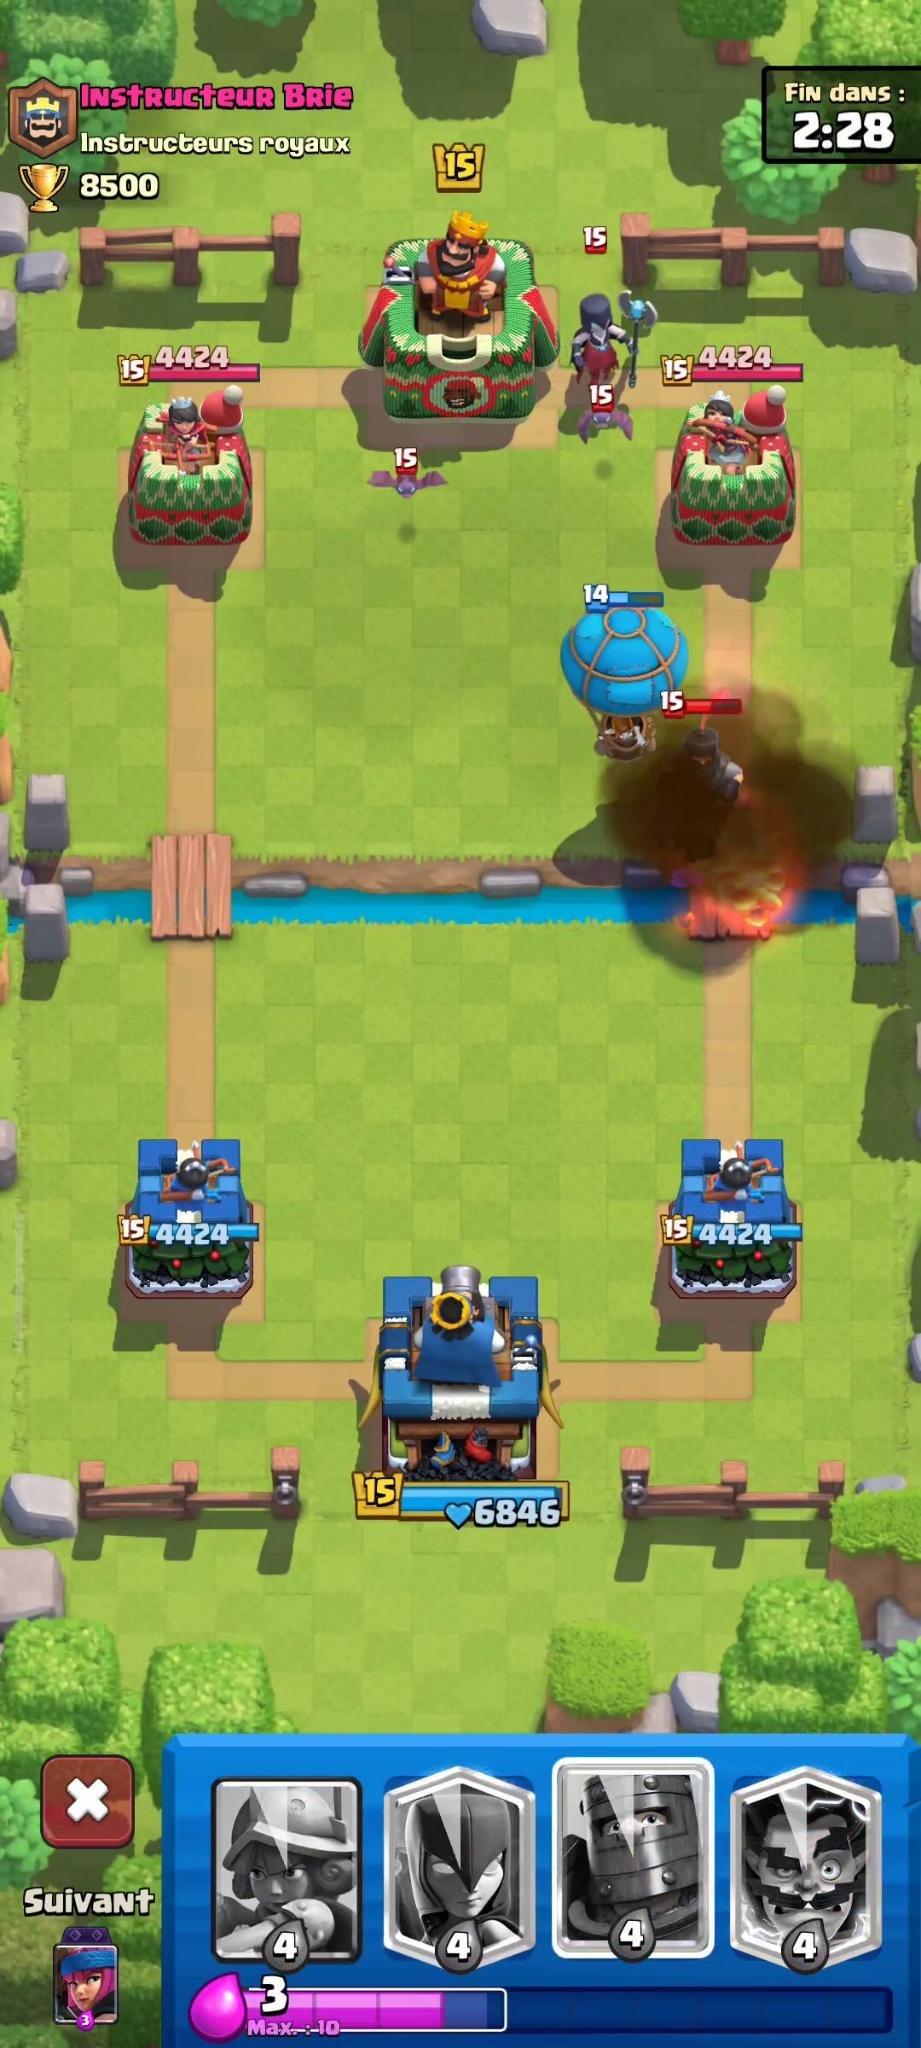bat: (571, 385, 644, 453), (367, 444, 449, 504)
